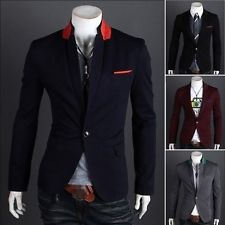F_M_suit jacket: (8, 21, 158, 201), (170, 82, 224, 147), (169, 10, 223, 74), (170, 160, 223, 222)
